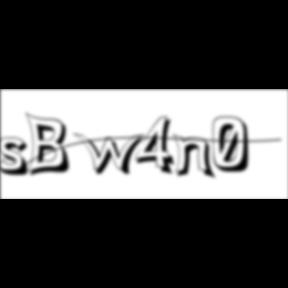0: (212, 115, 258, 174)
4: (135, 115, 182, 179)
B: (26, 111, 76, 179)
n: (174, 132, 220, 181)
s: (0, 137, 36, 179)
w: (73, 132, 151, 178)
